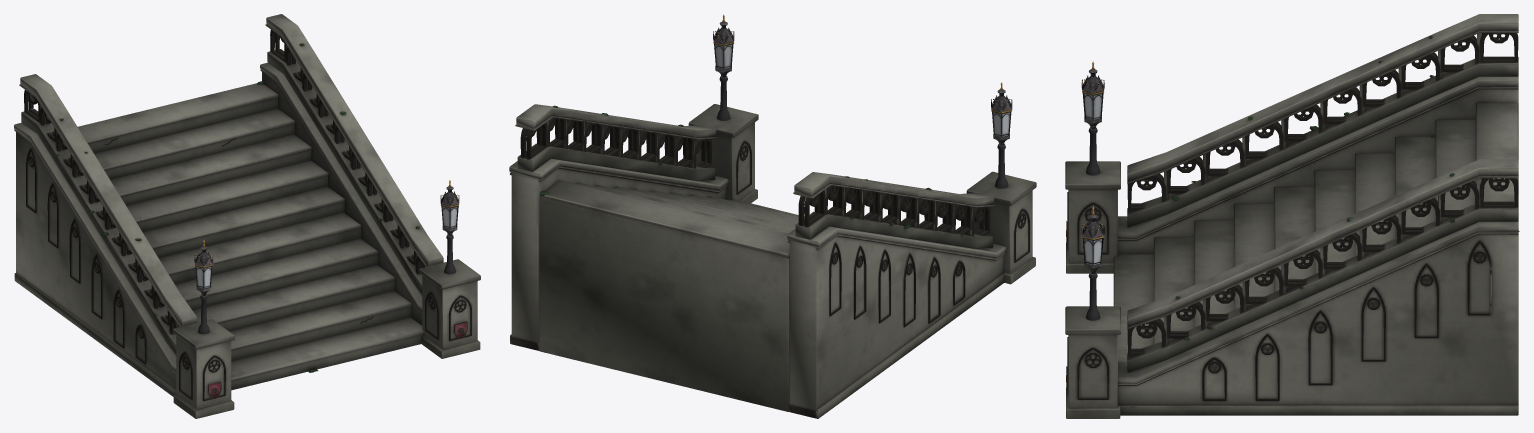
Rendered from EntranceFlight.fbx.
3 views of the same model, side by side, from view 1: azimuth 30°, elevation 25°; view 2: azimuth 150°, elevation 25°; view 3: azimuth 270°, elevation 25° (orthographic). The views are drawn at different scales.
Visible parts, largest first — view 1: EntranceFlight_Main, EntranceFlight_Parapet, EntranceFlight_Newels, EntranceFlight_Glass; view 2: EntranceFlight_Main, EntranceFlight_Parapet, EntranceFlight_Newels, EntranceFlight_Glass; view 3: EntranceFlight_Main, EntranceFlight_Parapet, EntranceFlight_Newels, EntranceFlight_Glass.
Boxes of the visible parts, bbox=[...] form: EntranceFlight_Main: bbox=[14, 62, 423, 396]; EntranceFlight_Parapet: bbox=[19, 14, 443, 355]; EntranceFlight_Newels: bbox=[173, 180, 480, 418]; EntranceFlight_Glass: bbox=[196, 206, 457, 288]; EntranceFlight_Main: bbox=[509, 158, 1006, 418]; EntranceFlight_Parapet: bbox=[515, 104, 995, 248]; EntranceFlight_Newels: bbox=[688, 14, 1036, 284]; EntranceFlight_Glass: bbox=[715, 44, 1009, 136]; EntranceFlight_Main: bbox=[1113, 76, 1519, 415]; EntranceFlight_Parapet: bbox=[1127, 14, 1518, 372]; EntranceFlight_Newels: bbox=[1065, 61, 1120, 418]; EntranceFlight_Glass: bbox=[1084, 93, 1101, 264].
Size of the model in its own units: 1290 by 876 by 1468.
